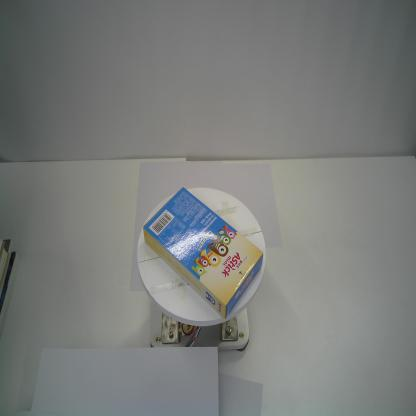Dessert: (142, 185, 265, 322)
